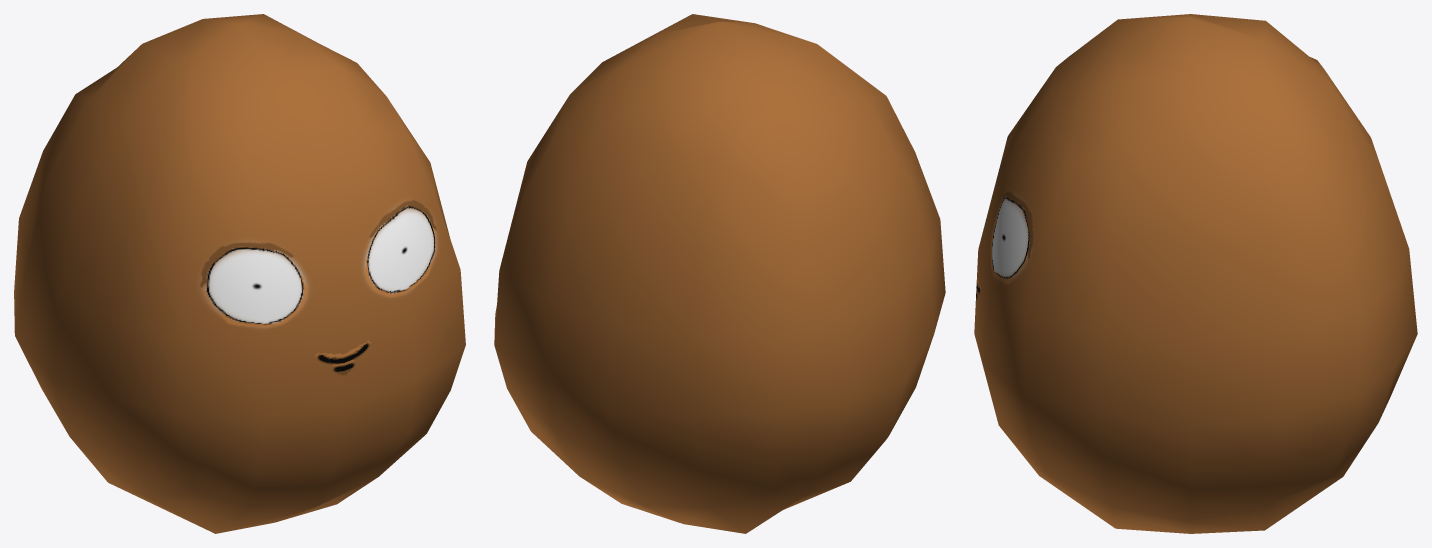
The model's file is Walnut.fbx.
3 renders of one model, left to right at view 1: azimuth 30°, elevation 25°; view 2: azimuth 150°, elevation 25°; view 3: azimuth 270°, elevation 25°, orthographic. The views are drawn at different scales.
Parts seen in each view (by area): view 1: Walnut; view 2: Walnut; view 3: Walnut.
Part boxes in pixels (x1,y1,x2,y2): Walnut: (14, 14, 465, 533); Walnut: (494, 14, 945, 533); Walnut: (974, 14, 1417, 533).
Bounding box in the file's own units: 247 × 314 × 247.
Materials: 1 (1 with a texture image).
